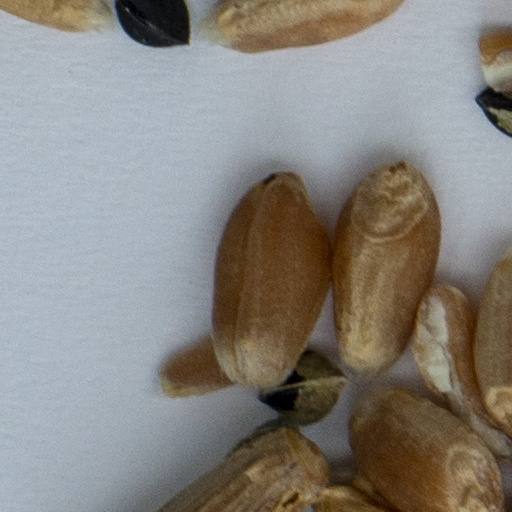Fallopia-Convolvulus-poly: (265, 355, 342, 428), (116, 0, 188, 46), (478, 90, 511, 135)
Wheat-grain-damaged-poly: (476, 30, 511, 91)
